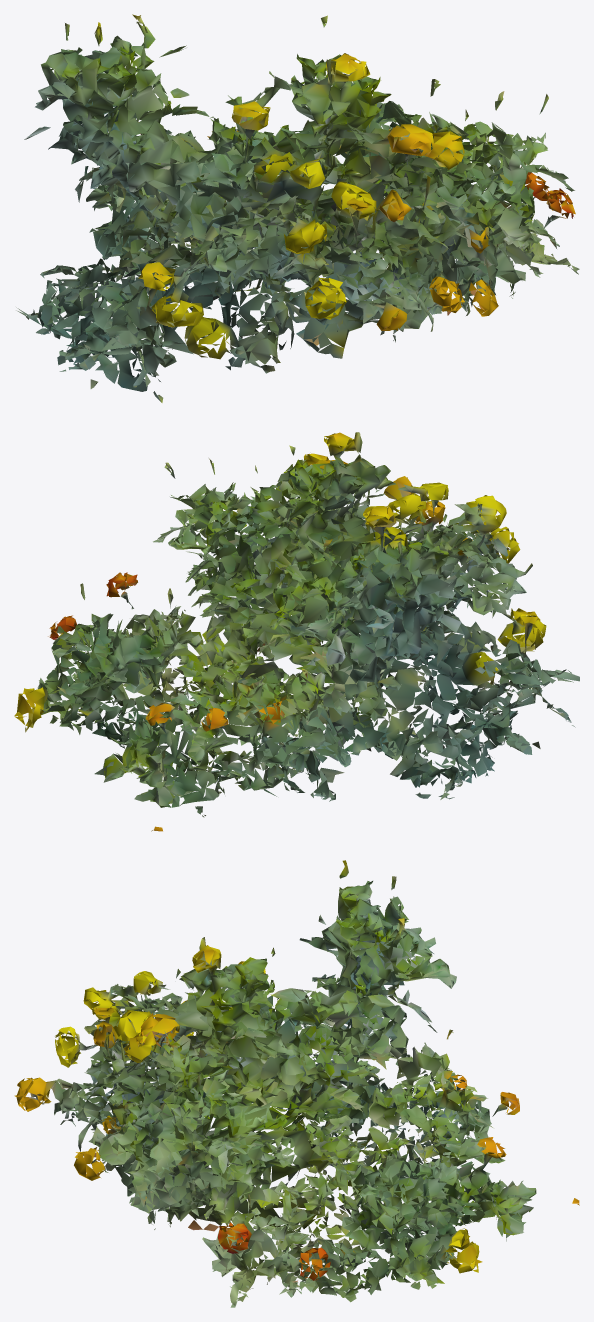
Rendered from bed_marigold.glb.
The picture shows the model from 3 angles, top to bottom: view 1: azimuth 30°, elevation 25°; view 2: azimuth 150°, elevation 25°; view 3: azimuth 270°, elevation 25°; orthographic projection. The views are drawn at different scales.
Size of the model in its own units: 0.57 by 0.3154 by 0.5857.
